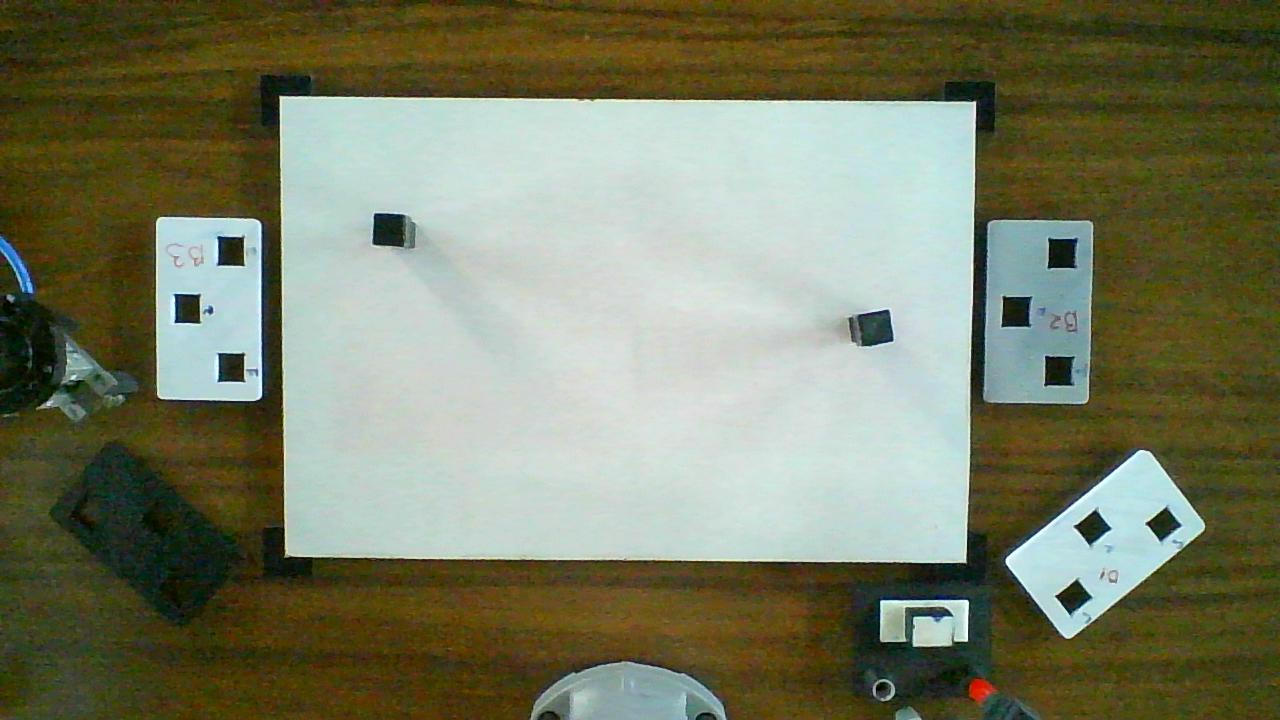peca_preta: (859, 313, 892, 345), (374, 215, 404, 244)
